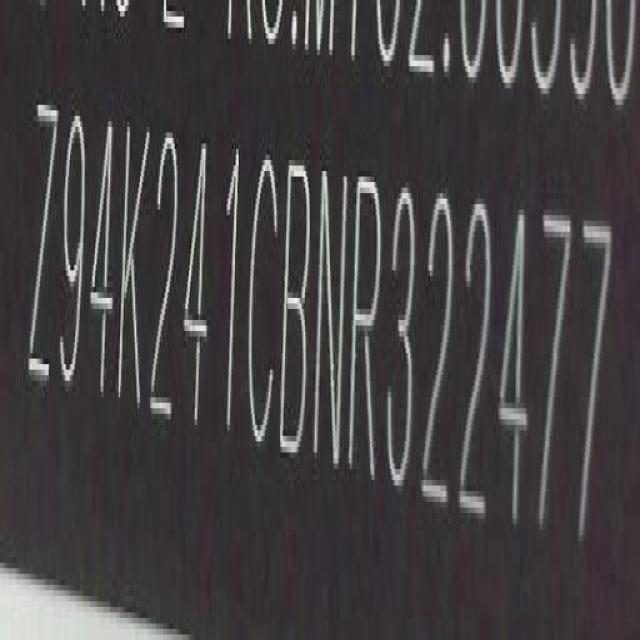1: (222, 141, 241, 441)
2: (419, 188, 454, 515), (460, 196, 493, 532), (148, 133, 178, 423)
3: (386, 186, 419, 501)
4: (497, 207, 531, 528), (182, 137, 212, 419), (88, 110, 115, 387)
7: (576, 204, 612, 542), (538, 200, 572, 536)
9: (58, 106, 88, 396)
B: (280, 157, 310, 470)
C: (248, 153, 278, 456)
K: (117, 120, 148, 407)
N: (309, 174, 350, 462)
R: (348, 170, 383, 480)
Z: (27, 94, 59, 405)
